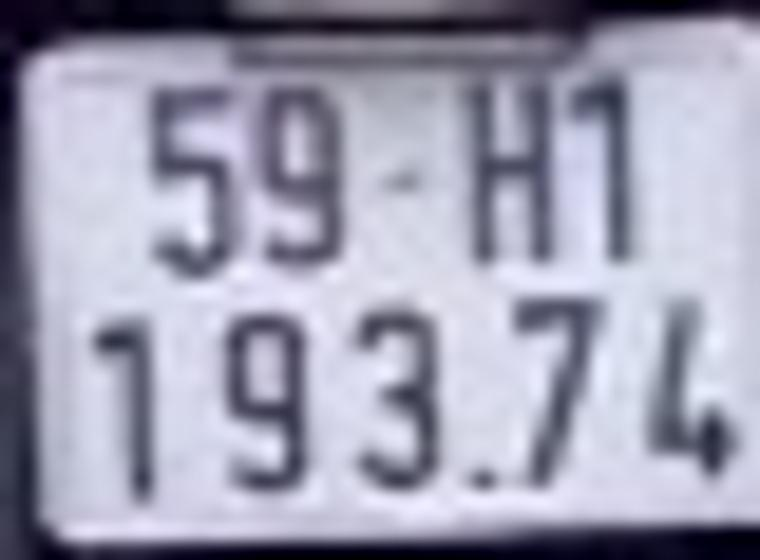-: (366, 165, 426, 196)
.: (460, 457, 499, 493)
1: (89, 314, 162, 506), (569, 68, 634, 271)
3: (350, 307, 440, 493)
4: (639, 293, 737, 486)
5: (143, 84, 235, 278)
7: (508, 291, 604, 495)
9: (211, 309, 310, 493), (257, 84, 341, 277)
H: (459, 82, 554, 263)
